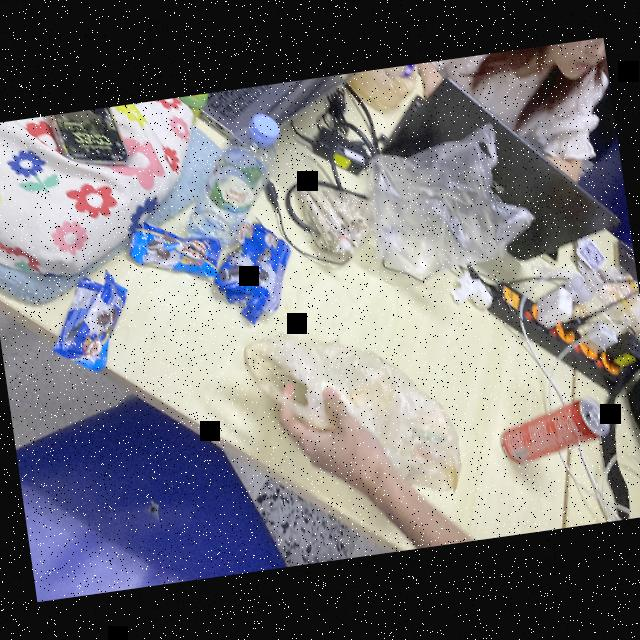can: (494, 394, 614, 466)
plastic_bag: (237, 309, 470, 522), (361, 128, 544, 284), (348, 62, 432, 118), (592, 261, 640, 336)
plastic_bottle: (171, 112, 296, 247), (525, 271, 609, 320)
scrap_paper: (447, 268, 494, 316)
snack_bag: (207, 217, 303, 331), (46, 266, 140, 378), (125, 211, 228, 292)
